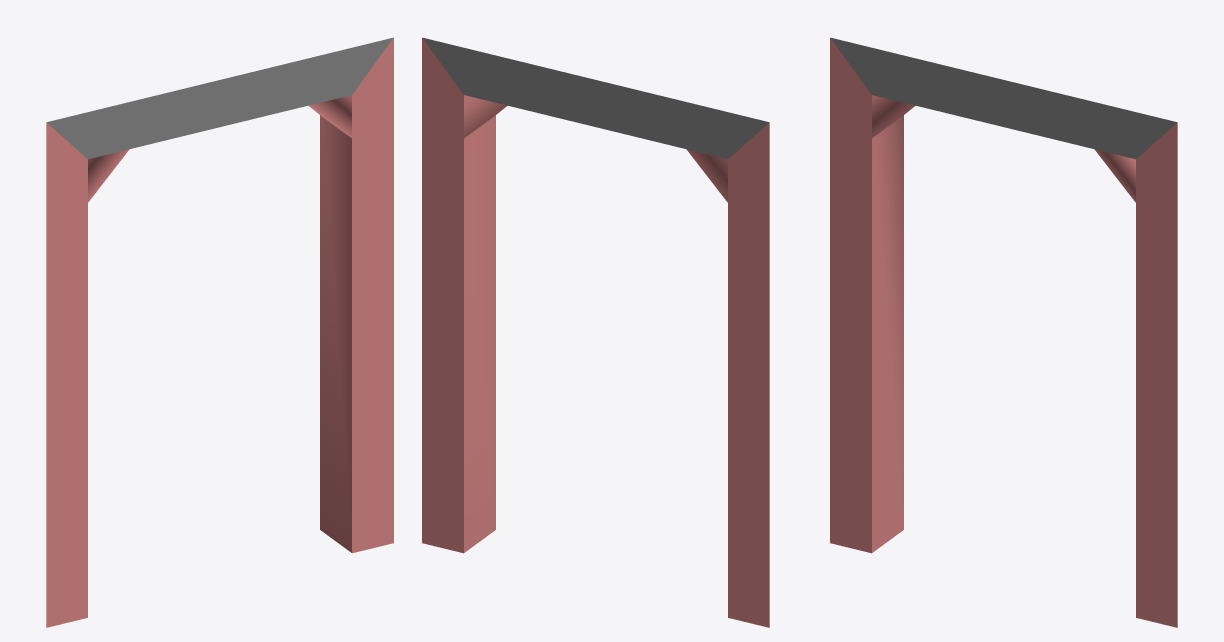
Rendered from sylentemple_sidedoor01.gltf.
3 views of the same model, side by side, from view 1: azimuth 30°, elevation 25°; view 2: azimuth 150°, elevation 25°; view 3: azimuth 330°, elevation 25° (orthographic).
Visible parts, largest first — view 1: sylentemple_sidedoor01; view 2: sylentemple_sidedoor01; view 3: sylentemple_sidedoor01.
Part boxes in pixels (x1,y1,x2,y2): sylentemple_sidedoor01: (46,37,393,627); sylentemple_sidedoor01: (422,37,769,627); sylentemple_sidedoor01: (830,37,1177,627).
Size of the model in its own units: 4 by 5.56 by 0.64.
